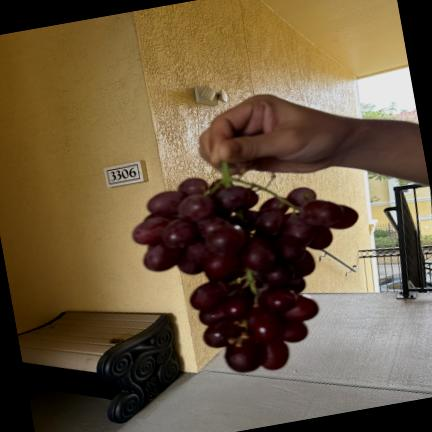grape_cluster: (134, 164, 358, 371)
